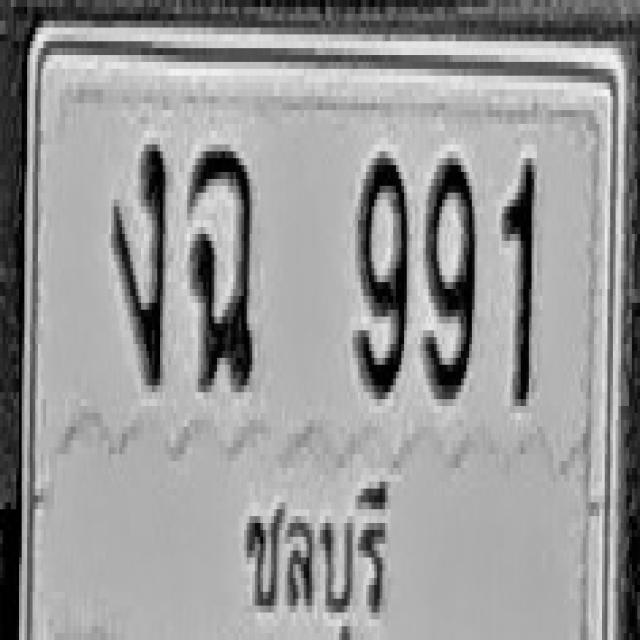1: (502, 155, 534, 402)
16NgorNgu: (111, 138, 166, 385)
18ChorChing: (188, 145, 254, 392)
9: (354, 148, 408, 396), (423, 152, 475, 399)
Chonburi: (234, 471, 389, 633)
